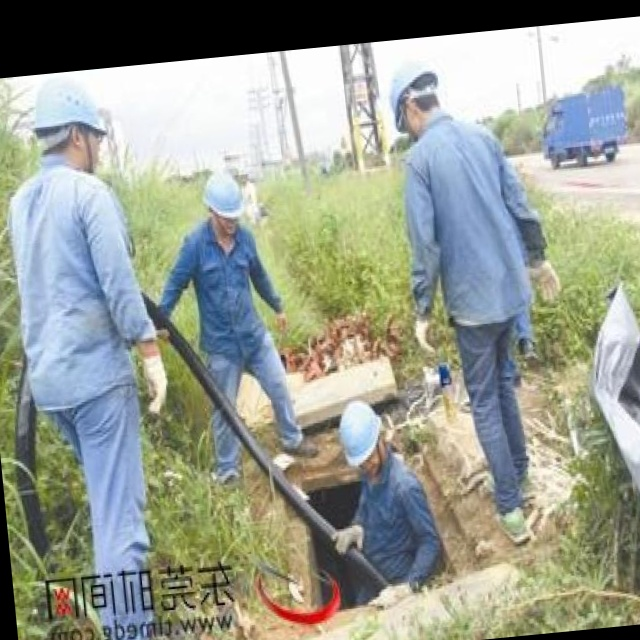Con_Casco: (27, 72, 116, 178), (383, 60, 445, 135), (334, 397, 388, 478), (197, 167, 248, 239)
